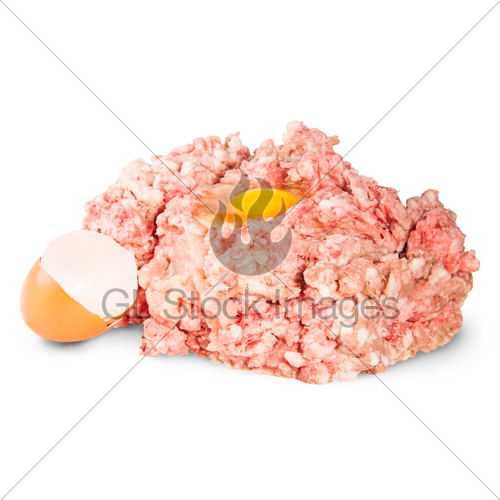ground_beef: (71, 137, 468, 375)
